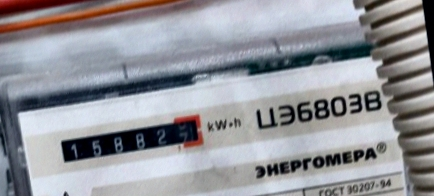1: (70, 138, 82, 158)
2: (157, 125, 170, 144)
5: (92, 136, 105, 155)
7: (179, 128, 192, 141)
8: (112, 132, 126, 151), (135, 128, 148, 148)
screen: (53, 108, 212, 170)
